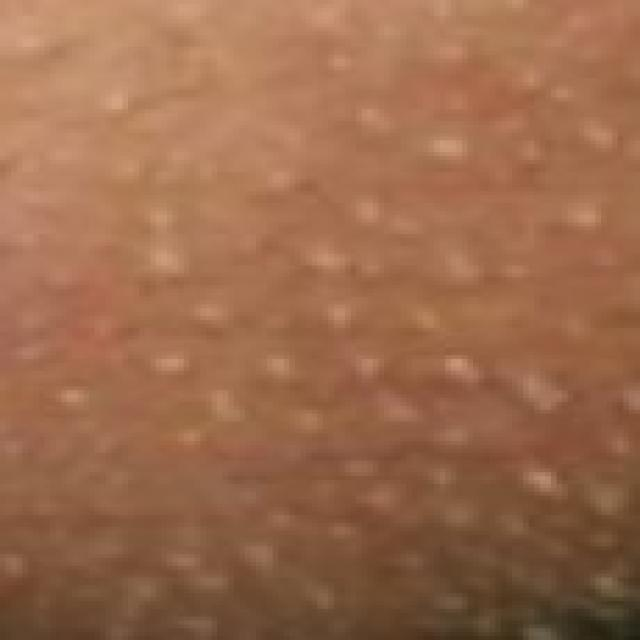whitehead: (99, 80, 640, 639)
